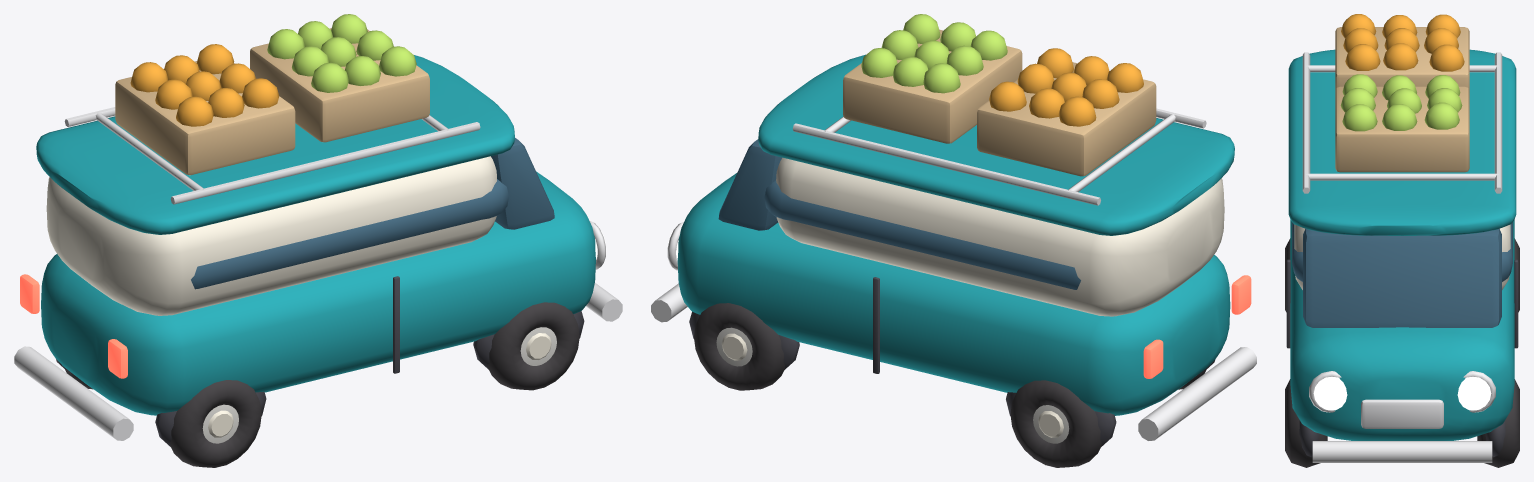
File: car_b.glb
3 renders of one model, left to right at view 1: azimuth 30°, elevation 25°; view 2: azimuth 150°, elevation 25°; view 3: azimuth 270°, elevation 25°, orthographic. The views are drawn at different scales.
Parts seen in each view (by area): view 1: car_b, wheel_1, wheel_3; view 2: car_b, wheel_2, wheel_0; view 3: car_b, wheel_0, wheel_1.
Boxes of the visible parts, x1=… form: car_b: x1=14, y1=14, x2=622, y2=446; wheel_1: x1=488, y1=302, x2=579, y2=390; wheel_3: x1=170, y1=380, x2=261, y2=467; car_b: x1=651, y1=14, x2=1256, y2=446; wheel_2: x1=1010, y1=380, x2=1101, y2=467; wheel_0: x1=694, y1=303, x2=784, y2=390; car_b: x1=1286, y1=14, x2=1518, y2=462; wheel_0: x1=1477, y1=379, x2=1519, y2=467; wheel_1: x1=1285, y1=379, x2=1327, y2=467.
Size of the model in its own units: 1.67 by 1.07 by 0.7333.
